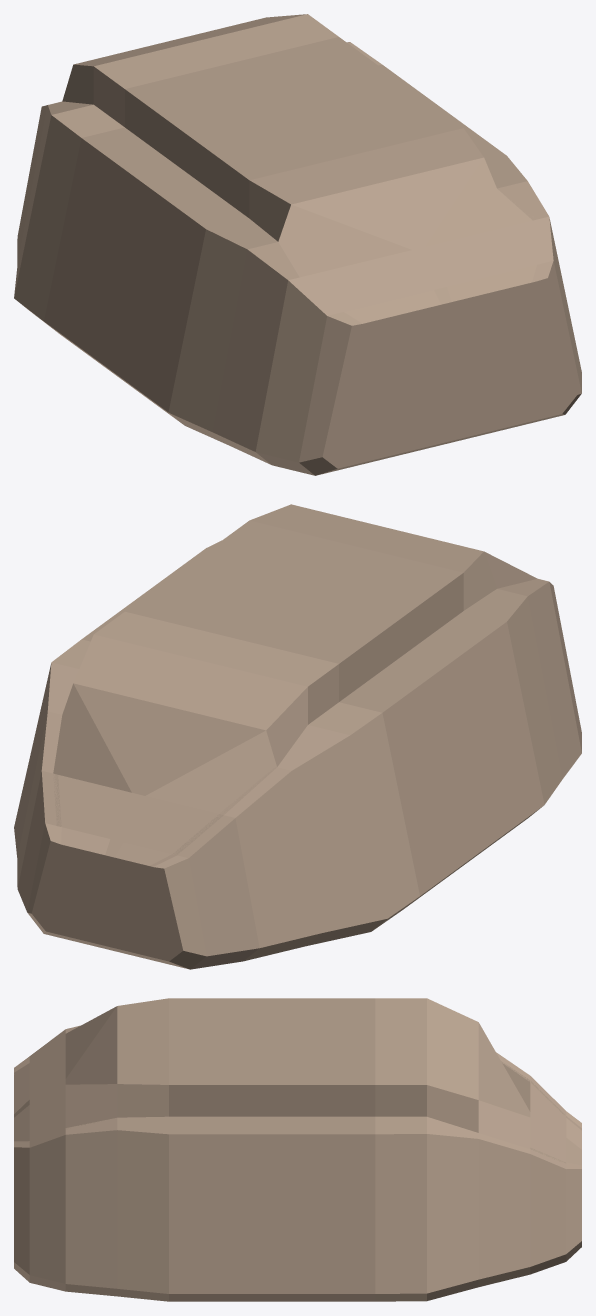
File: orrin_scout_a.glb
The picture shows the model from 3 angles, top to bottom: view 1: azimuth 30°, elevation 25°; view 2: azimuth 150°, elevation 25°; view 3: azimuth 270°, elevation 25°; orthographic projection. The views are drawn at different scales.
Parts seen in each view (by area): view 1: orrin_scout_a; view 2: orrin_scout_a; view 3: orrin_scout_a.
Part boxes in pixels (x1,y1,x2,y2): orrin_scout_a: (14, 14, 581, 475); orrin_scout_a: (14, 504, 581, 969); orrin_scout_a: (14, 998, 581, 1301).
Bounding box in the file's own units: 2.6 × 1.52 × 4.1.
